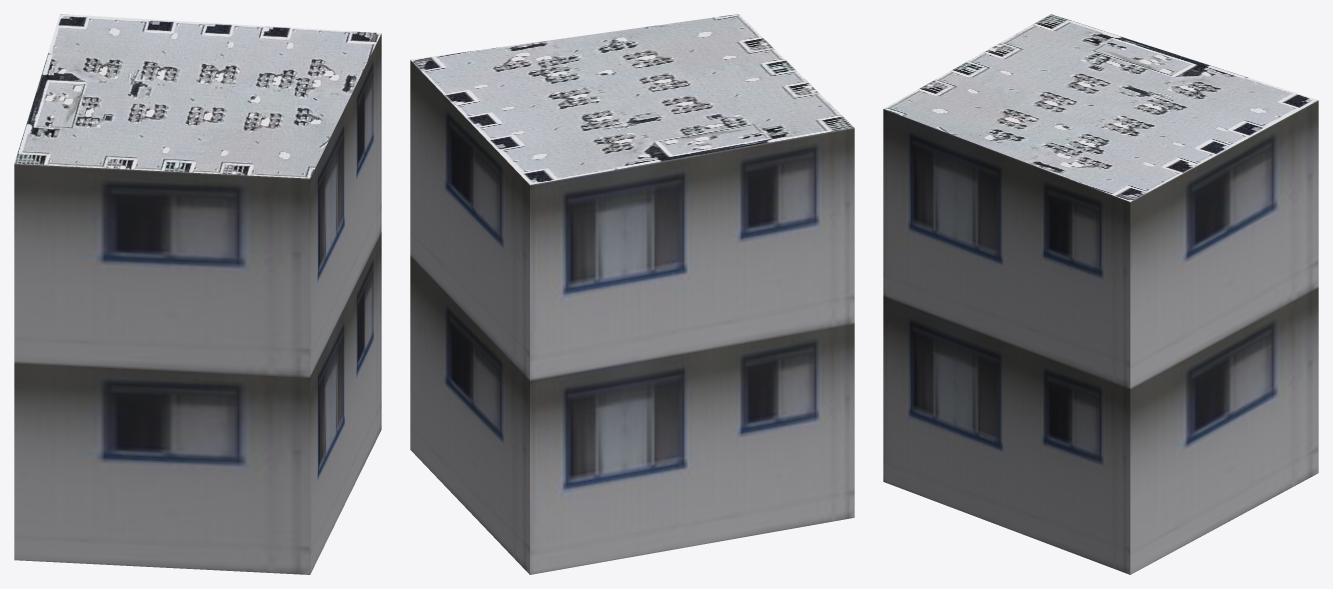
Rendered from ResTex__925.fbx.
3 views of the same model, side by side, from view 1: azimuth 30°, elevation 25°; view 2: azimuth 150°, elevation 25°; view 3: azimuth 270°, elevation 25° (orthographic). The views are drawn at different scales.
Visible parts, largest first — view 1: CityEngineMaterial_9_m, CityEngineMaterial_8_m; view 2: CityEngineMaterial_9_m, CityEngineMaterial_8_m; view 3: CityEngineMaterial_9_m, CityEngineMaterial_8_m.
Part boxes in pixels (x1,y1,x2,y2): CityEngineMaterial_9_m: [14, 34, 381, 574]; CityEngineMaterial_8_m: [14, 14, 381, 178]; CityEngineMaterial_9_m: [410, 60, 854, 574]; CityEngineMaterial_8_m: [410, 14, 854, 184]; CityEngineMaterial_9_m: [883, 100, 1318, 574]; CityEngineMaterial_8_m: [884, 14, 1317, 201].
Size of the model in its own units: 6.49 by 6 by 6.34.
Materials: 2 (2 with a texture image).
